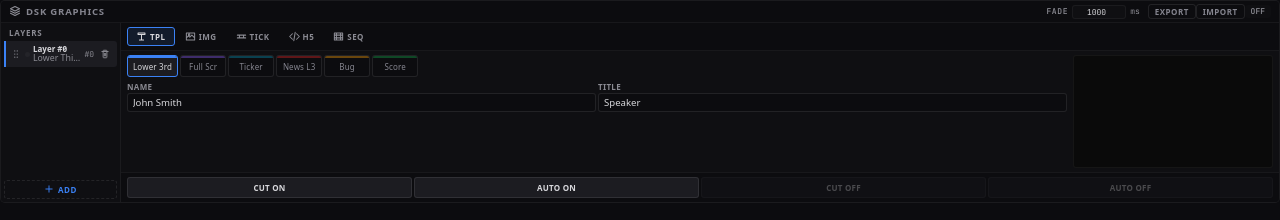
it: GraphicsPanel settings on the engine › clears NOT SAVED when an import replaces the layers
Replace the text in the field with class "field-inp" showing "Name" with "Ada" at point(362, 103), box [127,93,596,112]
Wait 350 ms
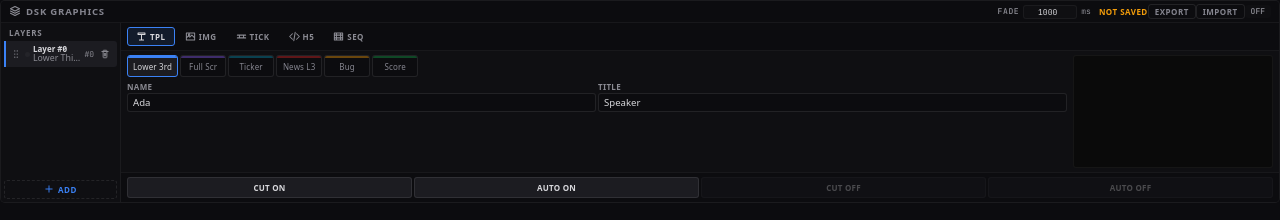
Now the text "NOT SAVED" is shown, box [1099,6,1148,17]
Click the button with class "gfx-io" showing "IMPORT" at point(1220, 12), box [1196,4,1245,19]
Wait 10000 ms
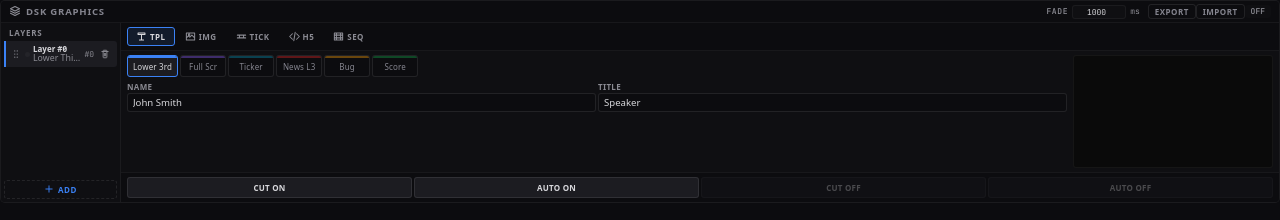
Now the text with class "gfx-unsaved" is gone
